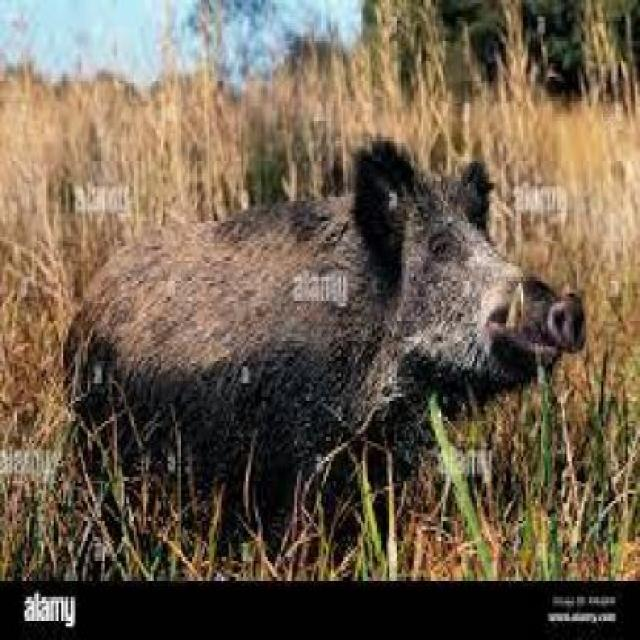Wild Boar: (52, 135, 591, 554)
